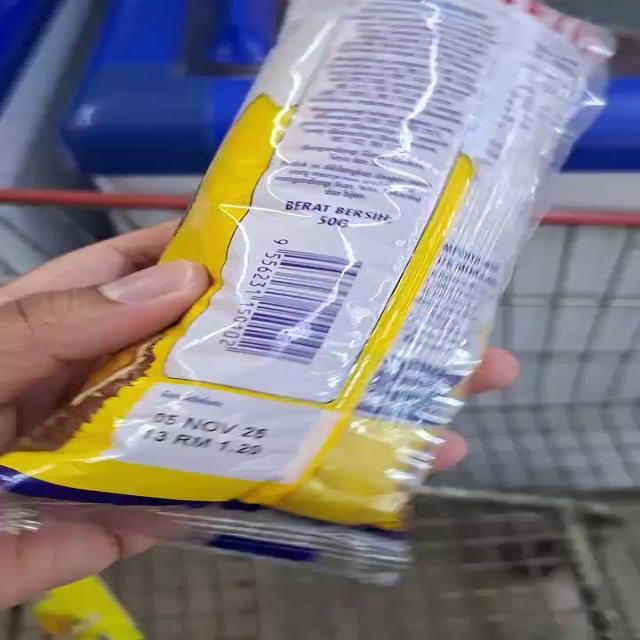Roti: (37, 194, 499, 574), (250, 0, 640, 254)
